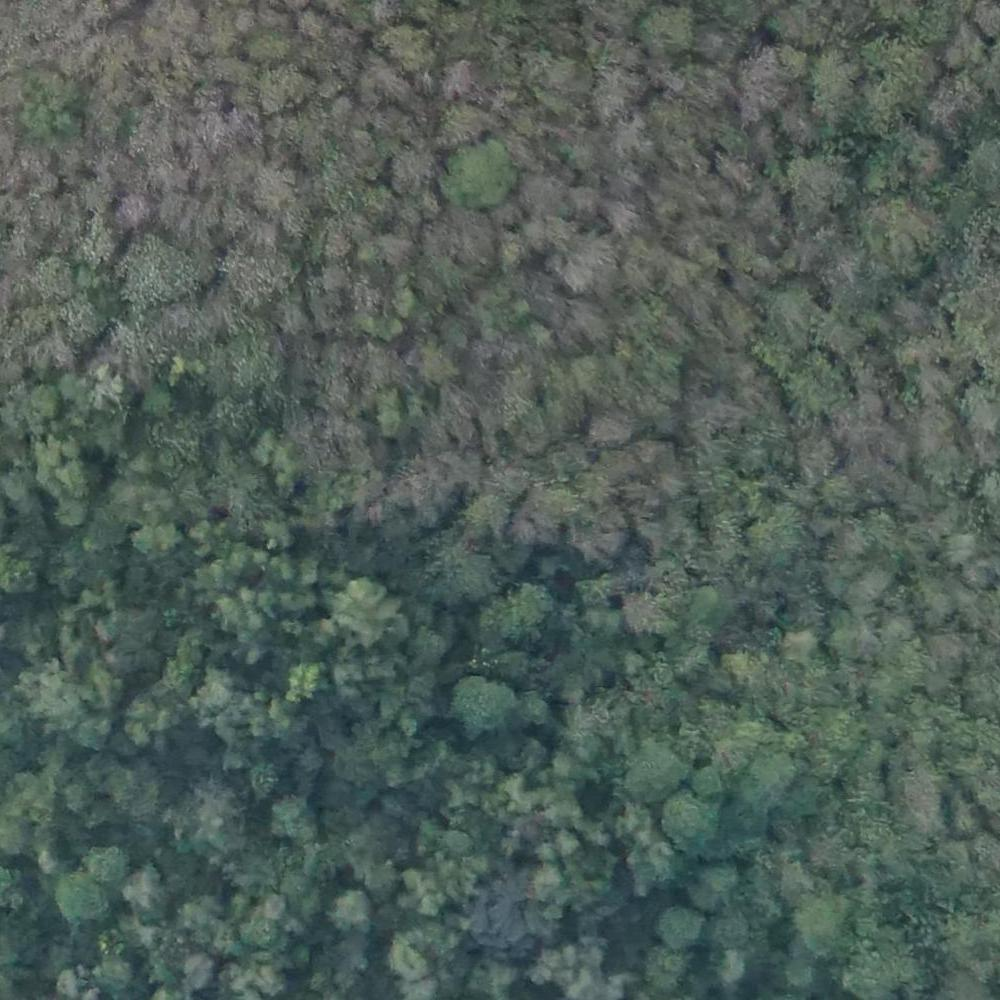tree: (119, 238, 192, 303), (441, 140, 512, 201), (865, 200, 924, 267), (179, 789, 240, 853), (444, 671, 507, 729), (339, 574, 394, 640), (795, 894, 851, 952), (234, 242, 290, 297), (496, 583, 551, 637), (790, 160, 844, 213), (660, 792, 713, 845), (591, 397, 645, 448), (815, 46, 865, 101), (381, 26, 430, 77), (54, 866, 100, 920), (795, 355, 840, 408), (625, 743, 671, 794), (260, 66, 307, 113), (467, 492, 514, 539), (641, 950, 686, 999), (281, 659, 326, 705), (274, 796, 322, 839), (399, 869, 446, 912), (658, 904, 700, 949), (828, 466, 868, 513), (396, 151, 440, 192), (699, 859, 739, 903), (124, 860, 161, 907), (136, 515, 175, 559), (71, 840, 116, 877), (77, 227, 116, 268), (390, 936, 425, 981), (628, 585, 669, 623), (330, 888, 366, 931), (381, 392, 420, 431), (783, 629, 822, 668), (411, 345, 451, 382), (526, 691, 557, 723), (123, 199, 153, 226)
